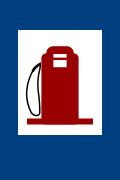Petrol Pump- Gas Station: (9, 21, 118, 153)
